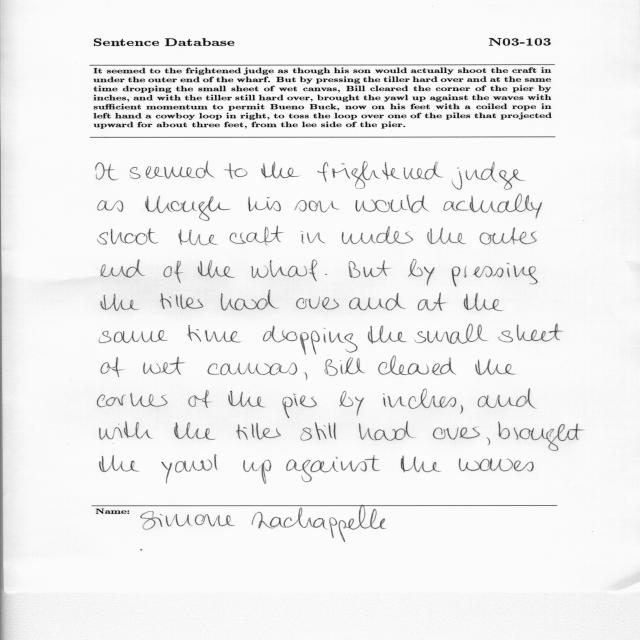word: (317, 161, 443, 189), (263, 325, 358, 355), (498, 421, 584, 451), (286, 455, 380, 482), (443, 194, 542, 219), (145, 196, 230, 221), (452, 263, 538, 287), (452, 162, 525, 190), (161, 455, 218, 484), (383, 388, 456, 409), (130, 161, 214, 179), (378, 356, 456, 375), (415, 324, 488, 344), (252, 260, 318, 282), (355, 195, 429, 213), (342, 226, 413, 244), (221, 290, 279, 311), (499, 324, 564, 342), (478, 389, 536, 409), (359, 421, 415, 441), (208, 363, 297, 375), (98, 228, 159, 245), (230, 227, 284, 246), (479, 228, 537, 245), (98, 393, 168, 407), (459, 459, 534, 472), (349, 293, 406, 310), (100, 422, 153, 440), (188, 325, 242, 342), (99, 330, 167, 343), (282, 394, 317, 419), (101, 259, 145, 278), (325, 357, 366, 376), (349, 260, 392, 278), (236, 423, 281, 440), (143, 357, 185, 375), (174, 422, 216, 440), (408, 260, 435, 286), (464, 293, 503, 311), (368, 326, 407, 344), (160, 293, 203, 309), (100, 455, 140, 472), (401, 456, 441, 473), (244, 460, 272, 484), (198, 260, 235, 278), (301, 422, 336, 441), (261, 162, 300, 179), (475, 359, 516, 375), (101, 294, 139, 311), (228, 391, 266, 408), (339, 391, 364, 416), (179, 230, 218, 246), (427, 228, 466, 244), (433, 427, 480, 440), (296, 297, 339, 310), (295, 200, 340, 212), (418, 293, 447, 311), (248, 197, 281, 212), (101, 357, 124, 377), (163, 261, 183, 283), (188, 390, 211, 408), (96, 163, 118, 181), (224, 163, 248, 179), (301, 231, 326, 244), (98, 200, 124, 212), (487, 437, 491, 445), (305, 372, 308, 381), (460, 405, 463, 414), (325, 274, 327, 275)
